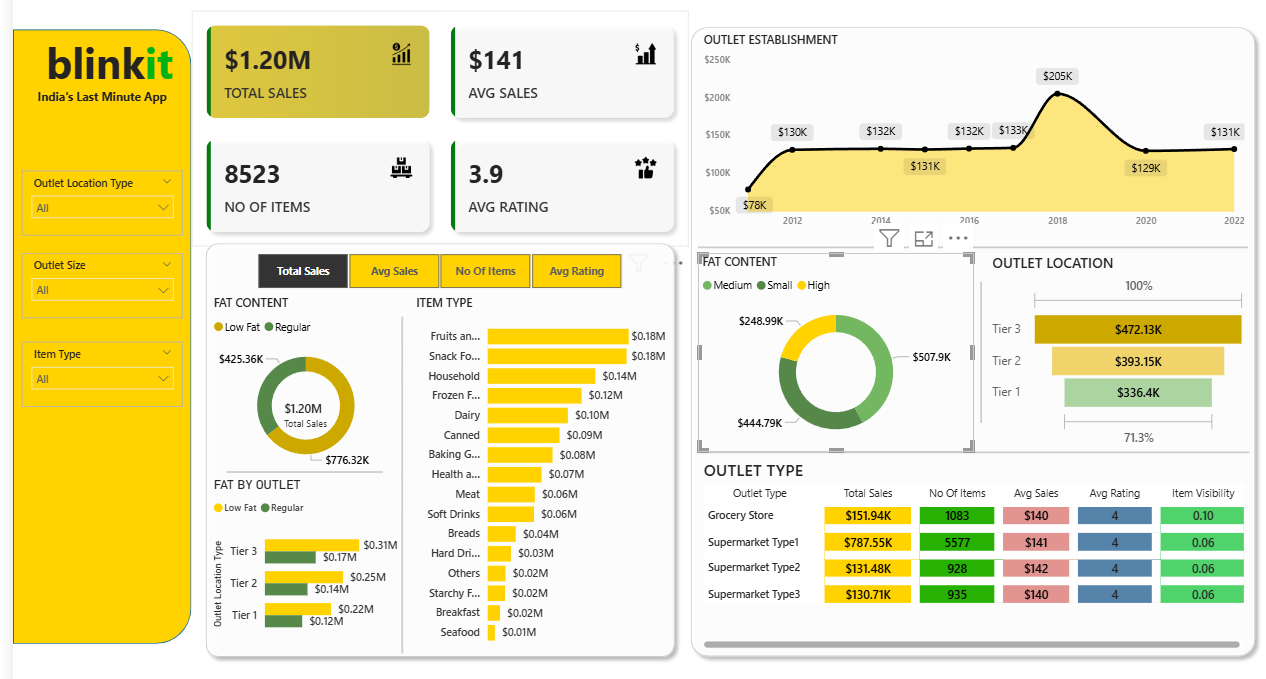

This screenshot's page, from the dashboard's own definition file:
{"tool":"powerbi","page":{"name":"Page 1","canvas":[1440,800],"ordinal":0},"visuals":[{"type":"shape","box":[0,47.9,203.8,702.4],"z":0},{"type":"textbox","box":[32.4,47.9,171.4,78.7],"z":1000},{"type":"textbox","box":[0,109.6,203.8,32.4],"z":2000},{"type":"cardVisual","fields":{"Data":["BlinkIT Grocery Data.Total Sales","BlinkIT Grocery Data.Avg Sales","BlinkIT Grocery Data.No Of Items","BlinkIT Grocery Data.Average Rating"]},"box":[203.8,26.2,569.6,270.2],"z":2001},{"type":"shape","box":[211.8,282.8,553.6,490.6],"z":2002},{"type":"donutChart","title":"FAT CONTENT","fields":{"Y":["BlinkIT Grocery Data.Total Sales"],"Category":["BlinkIT Grocery Data.Item Fat Content"]},"box":[223.9,349.9,221.2,209.1],"z":2003},{"type":"slicer","fields":{"Values":["Metrices.Metrices"]},"box":[254.7,297.6,465.1,52.3],"z":2004},{"type":"cardVisual","fields":{"Data":["BlinkIT Grocery Data.Total Sales"]},"box":[293.6,454.4,84.5,56.3],"z":2005},{"type":"clusteredBarChart","title":"FAT BY OUTLET","fields":{"Category":["BlinkIT Grocery Data.Outlet Location Type"],"Y":["BlinkIT Grocery Data.Total Sales"],"Series":["BlinkIT Grocery Data.Item Fat Content"]},"box":[224.3,558.6,220,192.9],"z":2006},{"type":"shape","box":[355.2,375.3,178.3,384.7],"z":2007},{"type":"shape","box":[244,546.9,178.3,12.1],"z":2008},{"type":"barChart","title":"ITEM TYPE","fields":{"Category":["BlinkIT Grocery Data.Item Type"],"Y":["BlinkIT Grocery Data.Total Sales"]},"box":[455.8,349.9,294.9,410.2],"z":2009},{"type":"shape","box":[765.7,35.7,662.9,737.1],"z":2010},{"type":"lineChart","title":"OUTLET ESTABLISHMENT","fields":{"Category":["BlinkIT Grocery Data.Outlet Establishment Year"],"Y":["BlinkIT Grocery Data.Total Sales"]},"box":[784.3,50,628.6,232.9],"z":2011},{"type":"shape","box":[782.9,290,628.6,12.9],"z":2012},{"type":"donutChart","title":"FAT CONTENT","fields":{"Y":["BlinkIT Grocery Data.Total Sales"],"Category":["BlinkIT Grocery Data.Outlet Size"]},"box":[782.9,302.9,315.7,227.1],"z":2013},{"type":"shape","box":[1098.6,335.7,15.7,161.4],"z":2014},{"type":"funnel","title":"OUTLET LOCATION","fields":{"Category":["BlinkIT Grocery Data.Outlet Location Type"],"Y":["BlinkIT Grocery Data.Total Sales"]},"box":[1114.3,302.9,300,225.7],"z":2015},{"type":"shape","box":[784.3,524.3,628.6,12.9],"z":2016},{"type":"pivotTable","title":"OUTLET TYPE","fields":{"Rows":["BlinkIT Grocery Data.Outlet Type"],"Values":["BlinkIT Grocery Data.Total Sales","BlinkIT Grocery Data.No Of Items","BlinkIT Grocery Data.Avg Sales","BlinkIT Grocery Data.Avg Rating","Avg(BlinkIT Grocery Data.Item Visibility)"]},"box":[784.3,537.1,627.1,222.9],"z":2017},{"type":"slicer","fields":{"Values":["BlinkIT Grocery Data.Outlet Location Type"]},"box":[10,208.6,184.3,74.3],"z":2018},{"type":"slicer","fields":{"Values":["BlinkIT Grocery Data.Outlet Size"]},"box":[10,302.9,184.3,74.3],"z":2019},{"type":"slicer","fields":{"Values":["BlinkIT Grocery Data.Item Type"]},"box":[10,404.3,184.3,74.3],"z":2020}]}

Visuals, with their boxes on the page's 1440x800 design canvas (x1, y1, x2, y2). These are canvas units, not pixel positions in the 1266x679 screenshot, which may show the page scaled, cropped or inside an application window:
shape: pyautogui.locateOnScreen(0, 48, 204, 750)
textbox: pyautogui.locateOnScreen(32, 48, 204, 127)
textbox: pyautogui.locateOnScreen(0, 110, 204, 142)
cardVisual - BlinkIT Grocery Data.Total Sales x BlinkIT Grocery Data.Avg Sales: pyautogui.locateOnScreen(204, 26, 773, 296)
shape: pyautogui.locateOnScreen(212, 283, 765, 773)
"FAT CONTENT" donutChart: pyautogui.locateOnScreen(224, 350, 445, 559)
slicer - Metrices.Metrices: pyautogui.locateOnScreen(255, 298, 720, 350)
cardVisual - BlinkIT Grocery Data.Total Sales: pyautogui.locateOnScreen(294, 454, 378, 511)
"FAT BY OUTLET" clusteredBarChart: pyautogui.locateOnScreen(224, 559, 444, 752)
shape: pyautogui.locateOnScreen(355, 375, 534, 760)
shape: pyautogui.locateOnScreen(244, 547, 422, 559)
"ITEM TYPE" barChart: pyautogui.locateOnScreen(456, 350, 751, 760)
shape: pyautogui.locateOnScreen(766, 36, 1429, 773)
"OUTLET ESTABLISHMENT" lineChart: pyautogui.locateOnScreen(784, 50, 1413, 283)
shape: pyautogui.locateOnScreen(783, 290, 1412, 303)
"FAT CONTENT" donutChart: pyautogui.locateOnScreen(783, 303, 1099, 530)
shape: pyautogui.locateOnScreen(1099, 336, 1114, 497)
"OUTLET LOCATION" funnel: pyautogui.locateOnScreen(1114, 303, 1414, 529)
shape: pyautogui.locateOnScreen(784, 524, 1413, 537)
"OUTLET TYPE" pivotTable: pyautogui.locateOnScreen(784, 537, 1411, 760)
slicer - BlinkIT Grocery Data.Outlet Location Type: pyautogui.locateOnScreen(10, 209, 194, 283)
slicer - BlinkIT Grocery Data.Outlet Size: pyautogui.locateOnScreen(10, 303, 194, 377)
slicer - BlinkIT Grocery Data.Item Type: pyautogui.locateOnScreen(10, 404, 194, 479)
